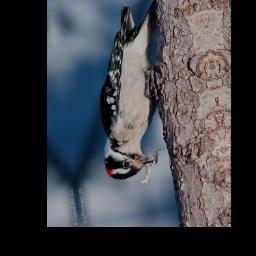Woodpecker: (82, 0, 178, 183)
